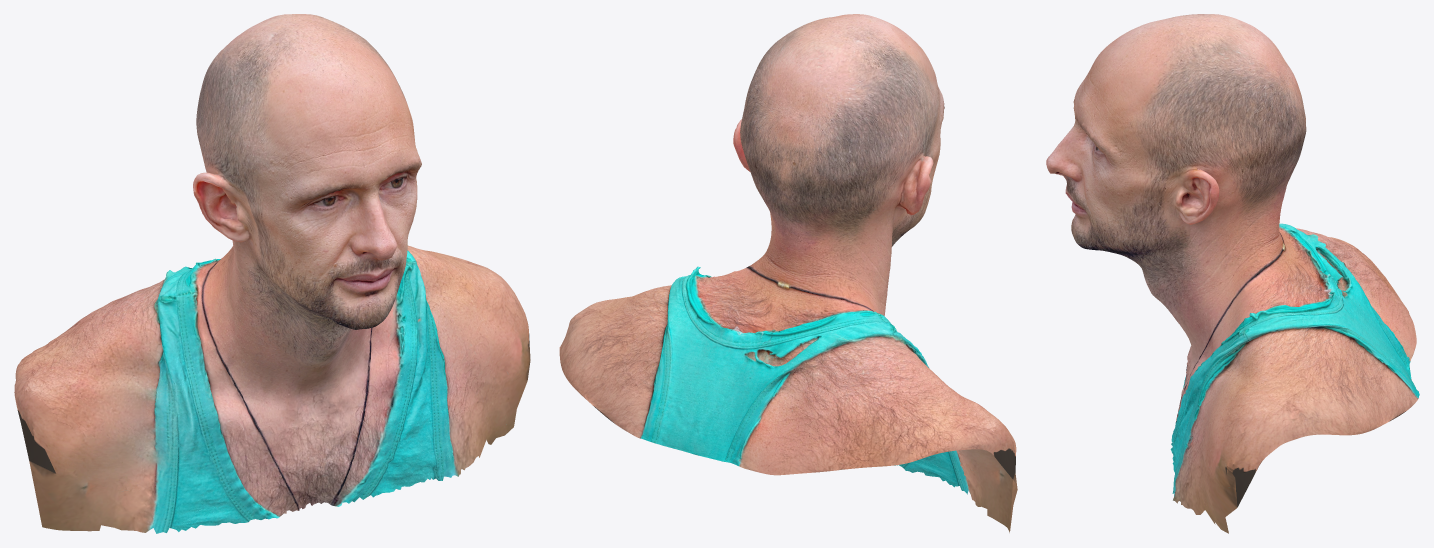
3 renders of one model, left to right at view 1: azimuth 30°, elevation 25°; view 2: azimuth 150°, elevation 25°; view 3: azimuth 270°, elevation 25°, orthographic. The views are drawn at different scales.
Visible parts, largest first — view 1: export; view 2: export; view 3: export.
Part boxes in pixels (<box>): export: <box>14,14,530,533</box>; export: <box>559,14,1017,532</box>; export: <box>1046,14,1419,533</box>.
Size of the model in its own units: 0.4806 by 0.4478 by 0.3608.
Materials: 1 (1 with a texture image).
